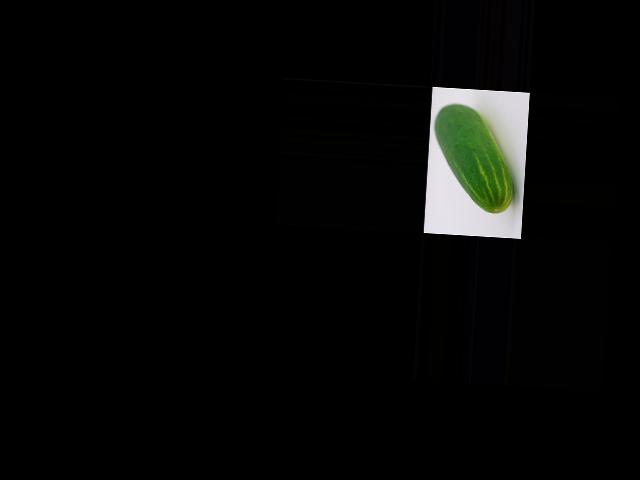cucumber: (429, 102, 518, 214)
